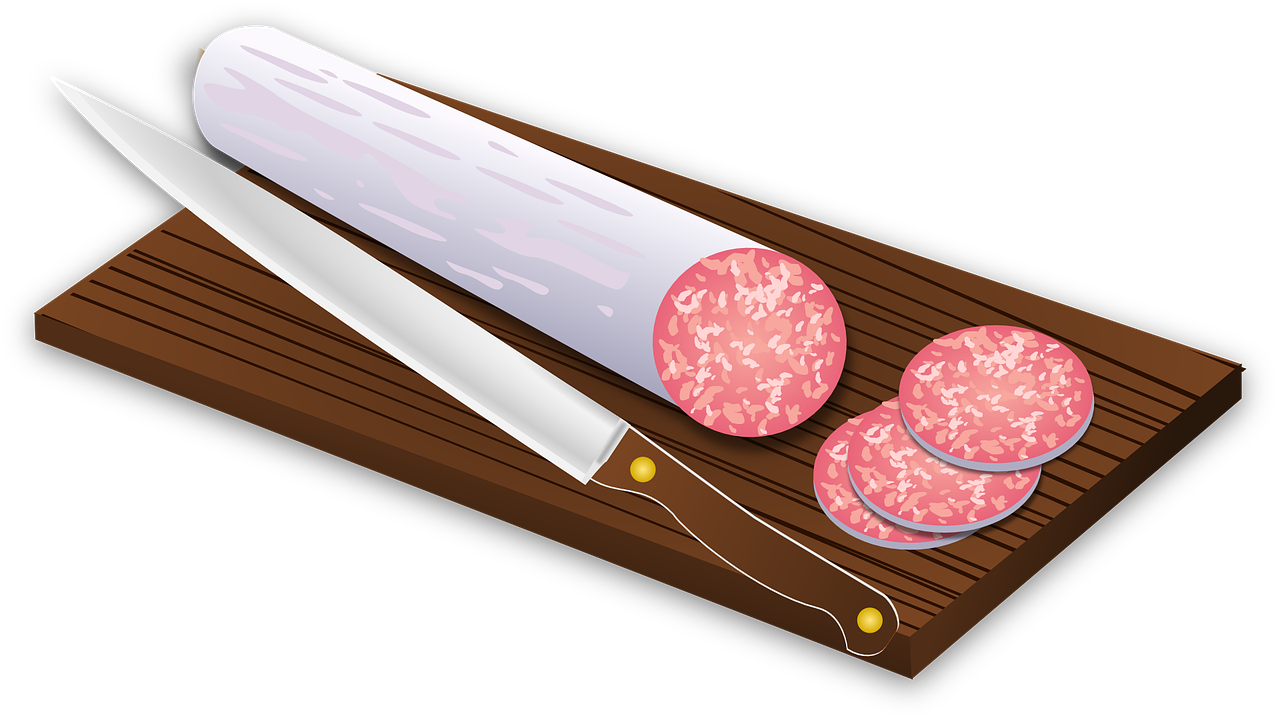knife: (41, 64, 902, 664)
